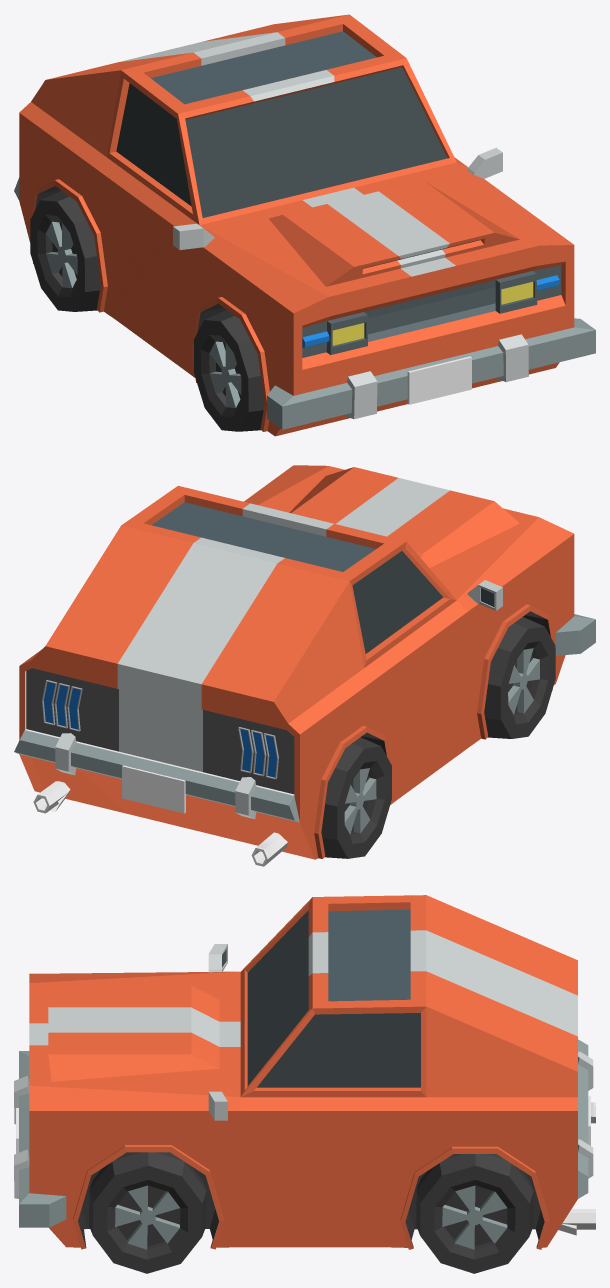
Rendered from _uscle_car.fbx.
The picture shows the model from 3 angles, top to bottom: view 1: azimuth 30°, elevation 25°; view 2: azimuth 150°, elevation 25°; view 3: azimuth 270°, elevation 25°; orthographic projection.
Parts seen in each view (by area): view 1: muscle_car; view 2: muscle_car; view 3: muscle_car.
Part boxes in pixels (<box>): muscle_car: <box>14,14,595,436</box>; muscle_car: <box>14,465,595,866</box>; muscle_car: <box>14,895,595,1273</box>.
Bounding box in the file's own units: 44.19 × 32.93 × 68.91.
